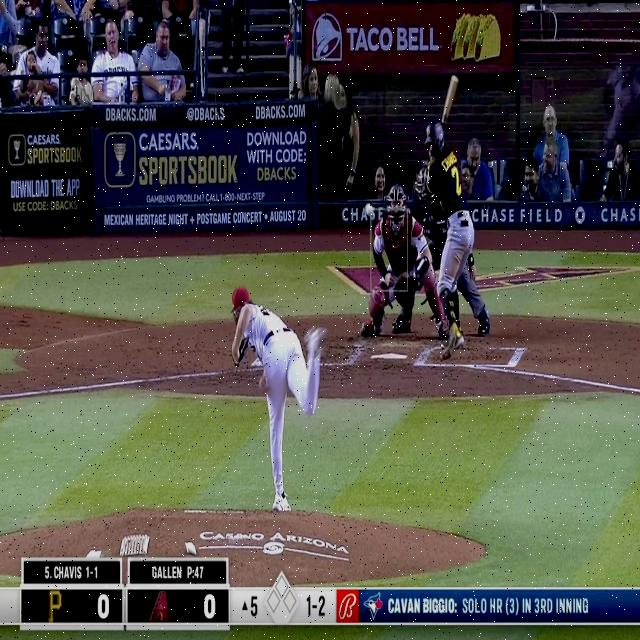baseball: (365, 203, 373, 215)
